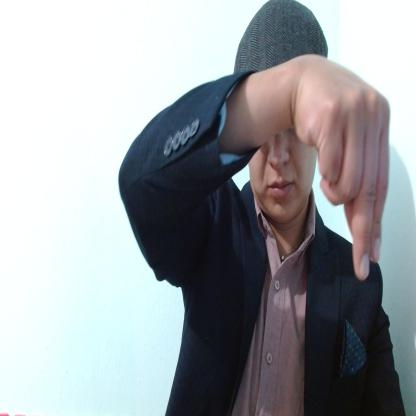N: (292, 52, 390, 279)
